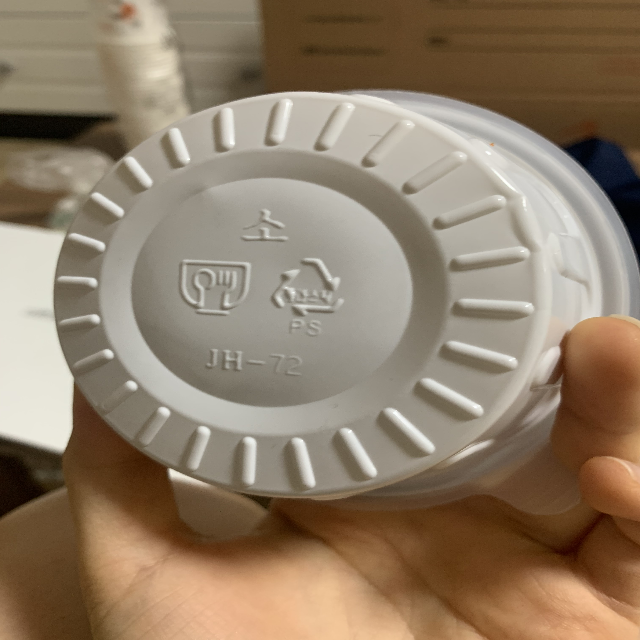ps: (266, 254, 352, 340)
